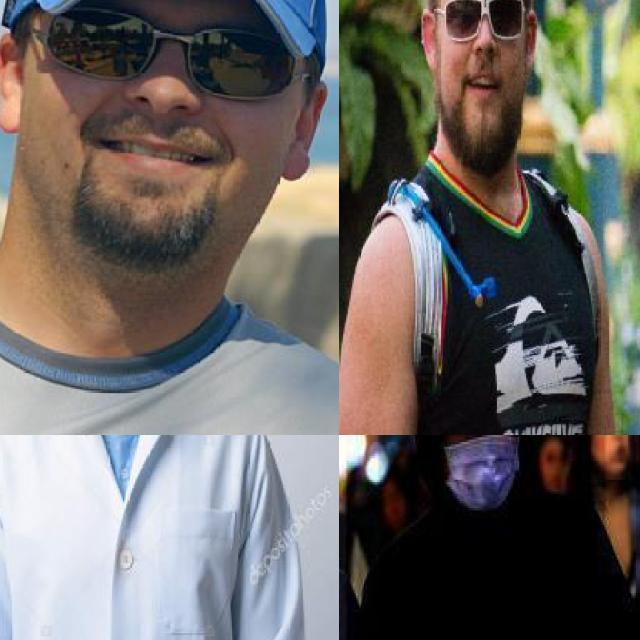No_Ear-Protection: (279, 65, 334, 191), (0, 32, 33, 134), (415, 8, 442, 70)
face_mask: (440, 435, 522, 510)
face_nomask: (54, 7, 286, 210), (438, 0, 516, 105), (591, 435, 634, 482)
glasses: (21, 0, 319, 93), (420, 0, 529, 42)
person: (351, 0, 616, 435), (0, 435, 303, 640), (378, 435, 607, 640)
